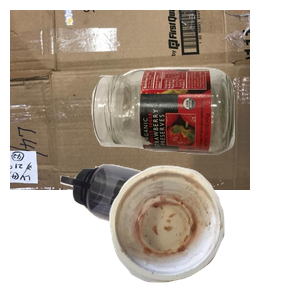cardboard: (10, 10, 250, 190)
glass: (89, 65, 300, 212)
plastic: (58, 162, 261, 300)
trash: (107, 163, 300, 300)
